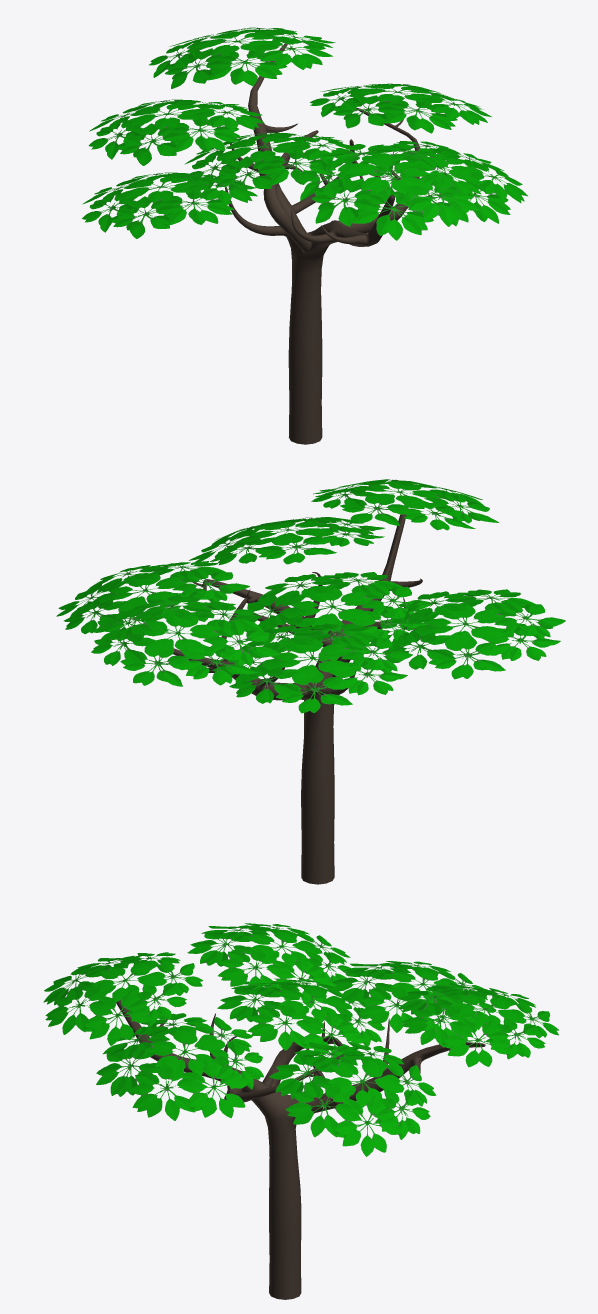
Rendered from work tree please.fbx.
3 renders of one model, top to bottom at view 1: azimuth 30°, elevation 25°; view 2: azimuth 150°, elevation 25°; view 3: azimuth 270°, elevation 25°, orthographic. The views are drawn at different scales.
Visible parts, largest first — view 1: pPlane34; view 2: pPlane34; view 3: pPlane34.
Boxes of the visible parts, bbox=[...] form: pPlane34: bbox=[82, 27, 527, 444]; pPlane34: bbox=[56, 479, 565, 884]; pPlane34: bbox=[43, 923, 558, 1299].
Size of the model in its own units: 30.87 by 18.75 by 30.53.
